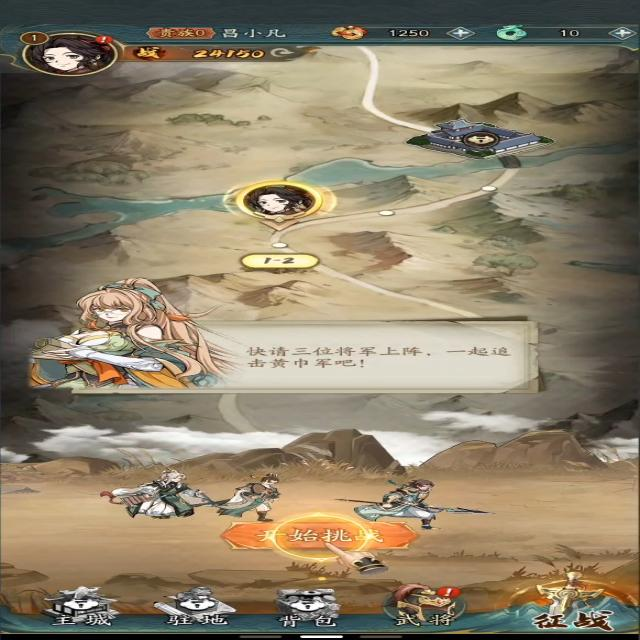hint-guide: (33, 281, 552, 398), (220, 521, 421, 551)
navigation-fight: (497, 569, 637, 632)
navigation-hero: (385, 582, 469, 627)
navigation-role: (7, 21, 133, 82)
navigation-station-off: (154, 586, 238, 626)
